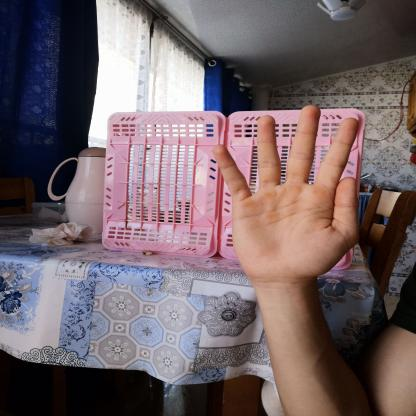SHEEN: (204, 100, 375, 292)
